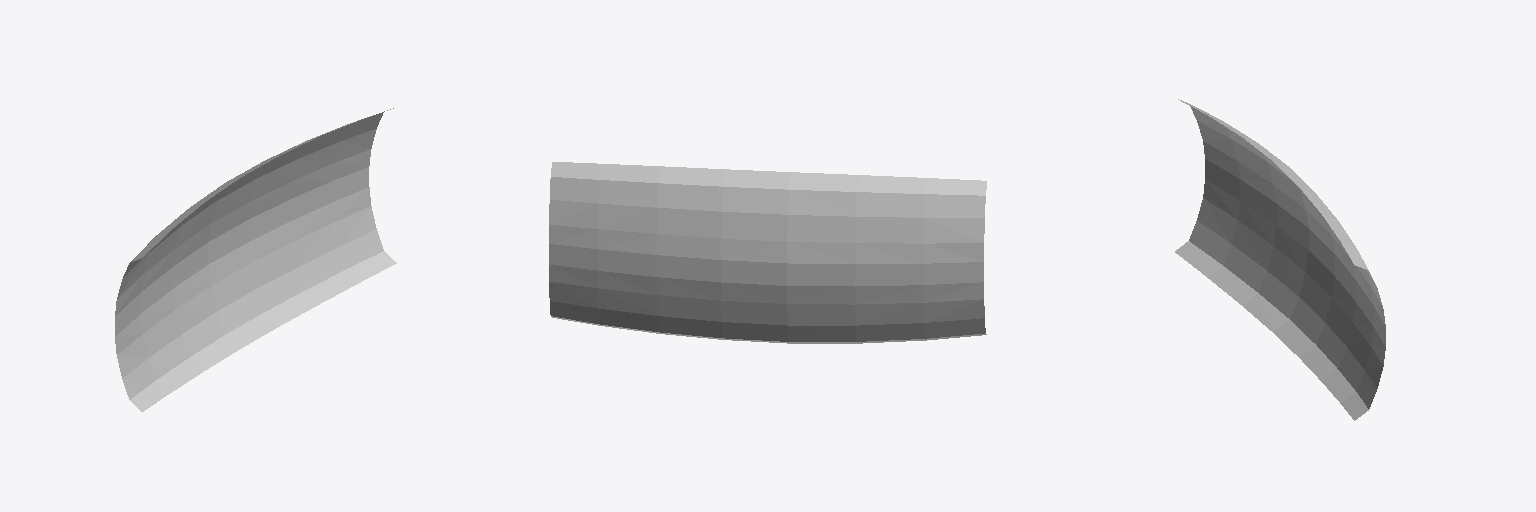
The model's file is airshipScreen.obj.
The picture shows the model from 3 angles: view 1: azimuth 30°, elevation 25°; view 2: azimuth 150°, elevation 25°; view 3: azimuth 270°, elevation 25°; orthographic projection.
Parts seen in each view (by area): view 1: polySurface14; view 2: polySurface14; view 3: polySurface14.
Boxes of the visible parts, box(x1,y1,x2,y2) form: polySurface14: box(115, 108, 396, 411); polySurface14: box(549, 162, 986, 343); polySurface14: box(1175, 99, 1385, 420).
Size of the model in its own units: 2.73 by 1.25 by 1.4.